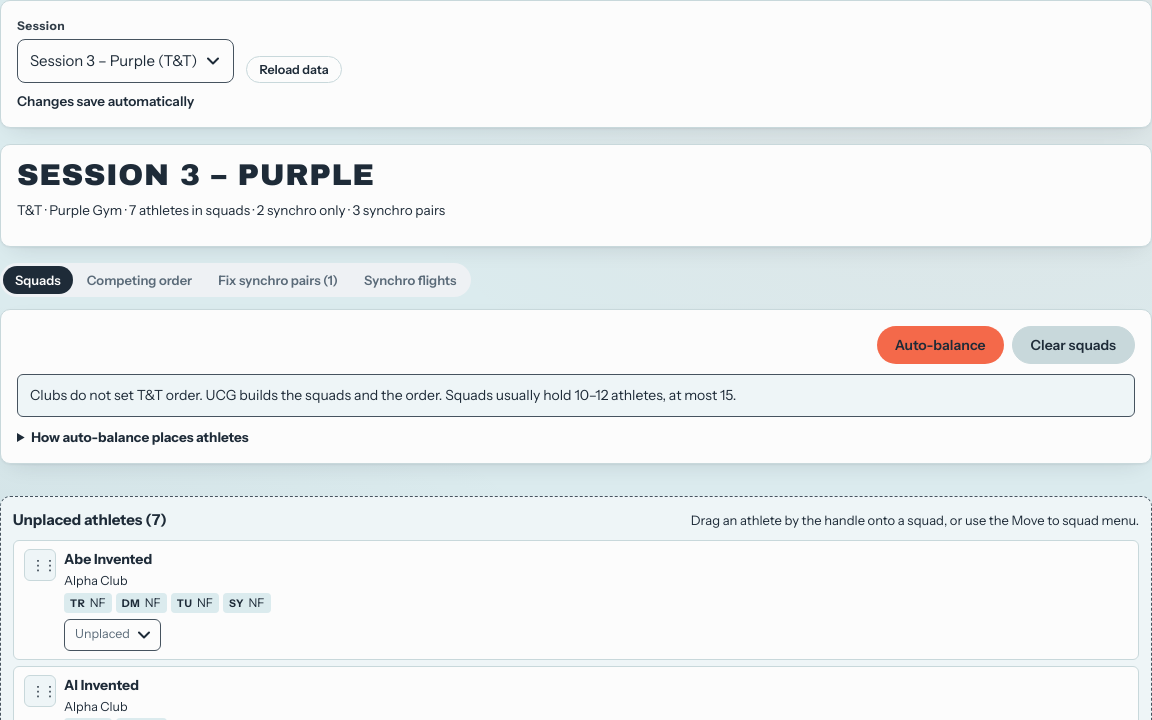
it: T&T screen › auto-balance places everyone, keeps synchro-only out, and saves a plan with no nested arrays
The width and height of the screenshot is (1152, 720).
expect the heading "Session 3 – Purple" is shown: met, box [17,159,374,191]
Click the button "Auto-balance": {"x": 940, "y": 345} [877,326,1004,364]
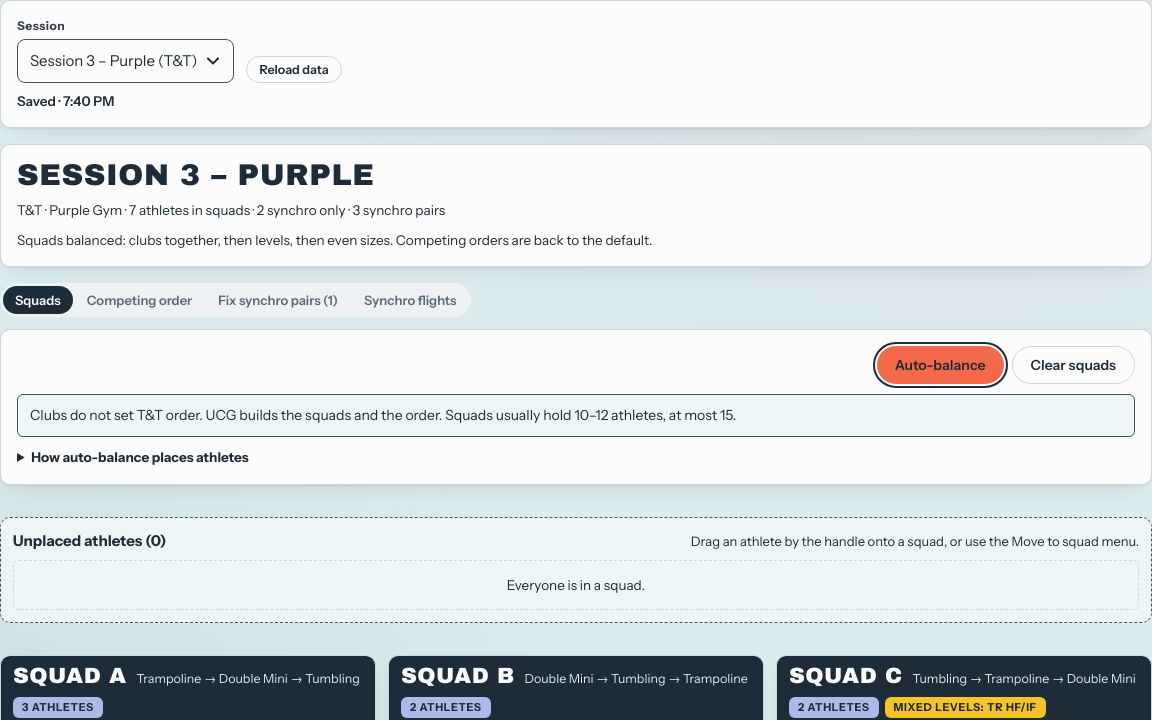
expect the text "Everyone is in a squad." is shown: met, box [13,560,1139,610]
expect the message with test id "squads-save" shows "Saved ·": met, box [17,93,114,109]
